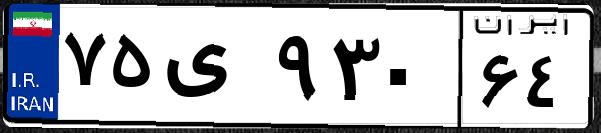0: (385, 28, 445, 110)
3: (330, 28, 385, 110)
4: (525, 38, 570, 115)
5: (110, 28, 158, 98)
6: (475, 38, 525, 113)
7: (57, 26, 110, 100)
9: (270, 28, 330, 110)
ی: (158, 20, 270, 120)
